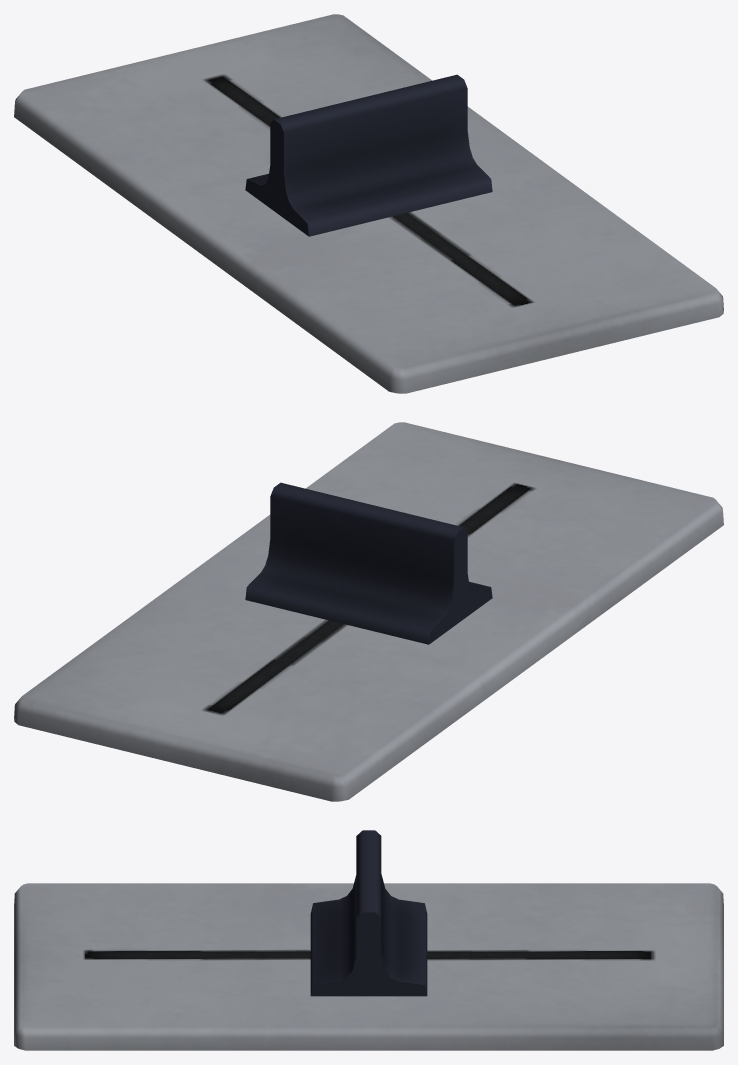
File: Switch 3.fbx
3 views of the same model, one above another, from view 1: azimuth 30°, elevation 25°; view 2: azimuth 150°, elevation 25°; view 3: azimuth 270°, elevation 25° (orthographic). The views are drawn at different scales.
Visible parts, largest first — view 1: Base, Switch; view 2: Base, Switch; view 3: Base, Switch.
Boxes of the visible parts, bbox=[...] form: Base: bbox=[14, 14, 723, 393]; Switch: bbox=[245, 74, 492, 236]; Base: bbox=[14, 422, 723, 801]; Switch: bbox=[245, 482, 492, 644]; Base: bbox=[14, 883, 723, 1050]; Switch: bbox=[310, 830, 427, 996].
Size of the model in its own units: 4.83 by 1.57 by 9.69.
